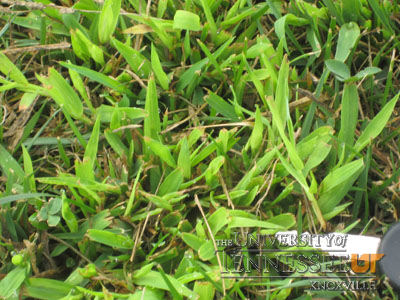crabgrass: (1, 1, 398, 300)
